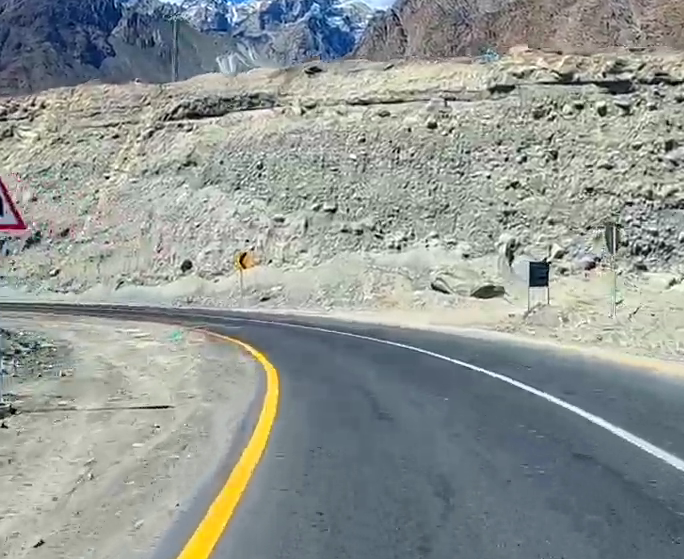right: (109, 254, 611, 458)
